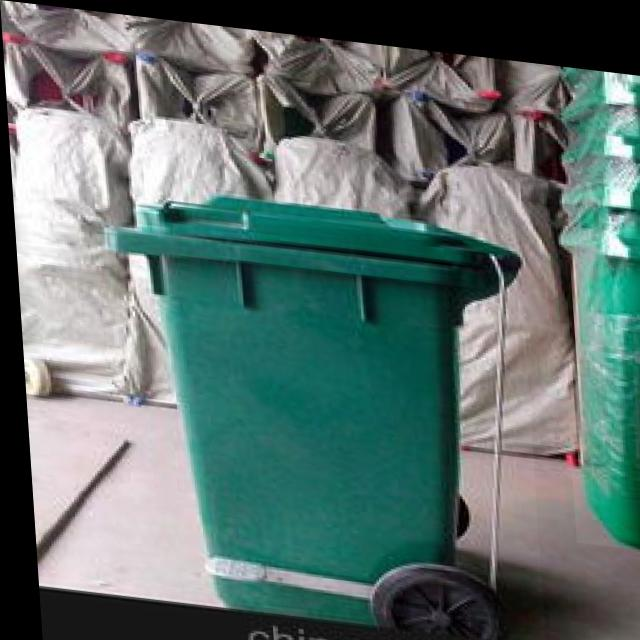garbage_bin: (96, 175, 537, 628), (554, 211, 640, 537)
